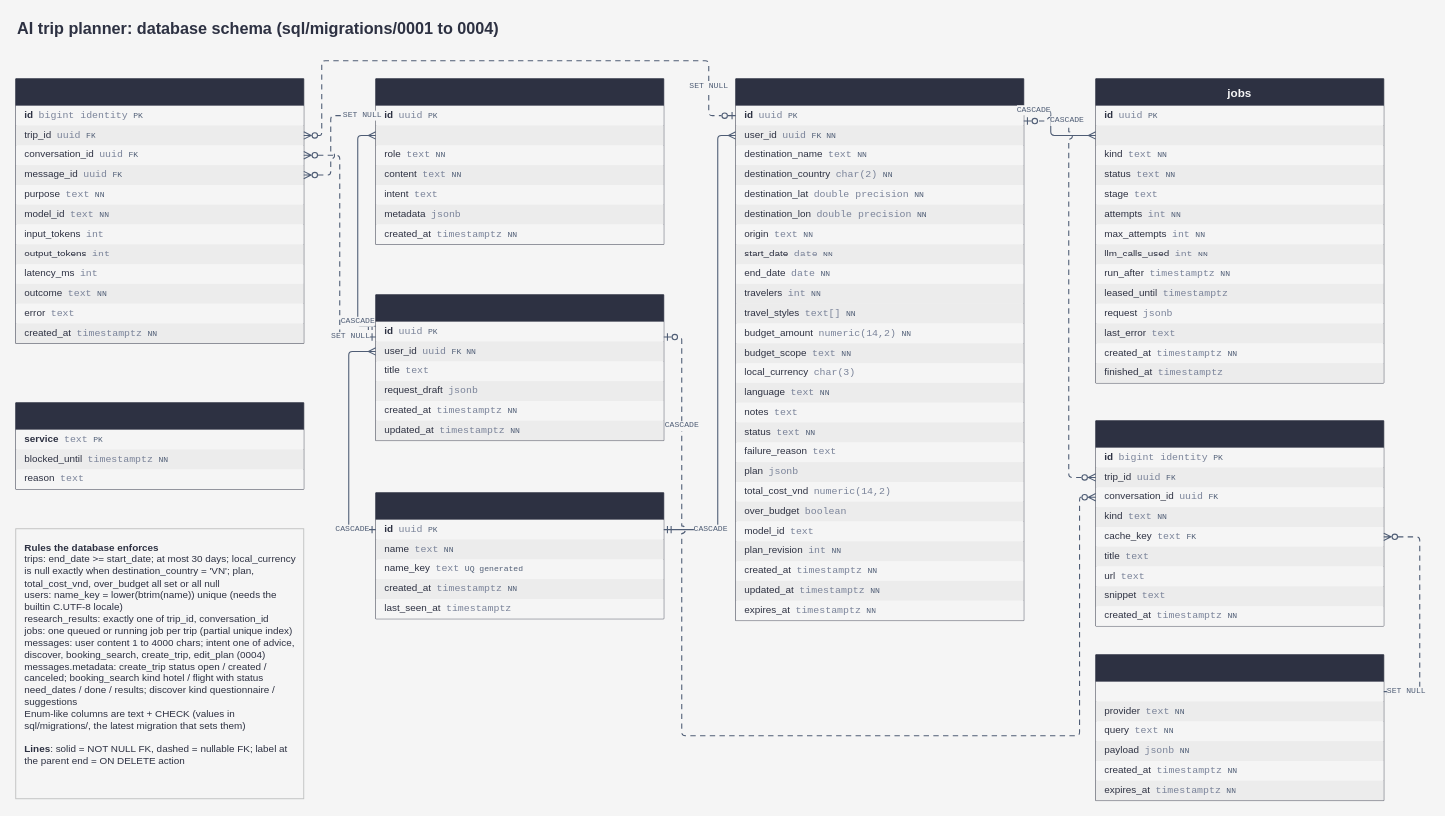
Some shapes in this 1445 by 816 pixel diagram are drawn without their labels. The box of each missing label's shape, as (x1, y1, x2, y2) in pixels:
conversation_id uuid FK NN: (375, 125, 663, 145)
conversations: (375, 294, 664, 441)
key text PK: (1095, 681, 1383, 701)
llm_calls: (15, 78, 304, 343)
messages: (375, 78, 664, 244)
quota_blocks: (15, 402, 304, 489)
research_results: (1095, 420, 1384, 626)
search_cache: (1095, 654, 1384, 801)
trip_id uuid FK NN: (1095, 125, 1383, 145)
trips: (735, 78, 1024, 621)
users: (375, 492, 664, 619)
